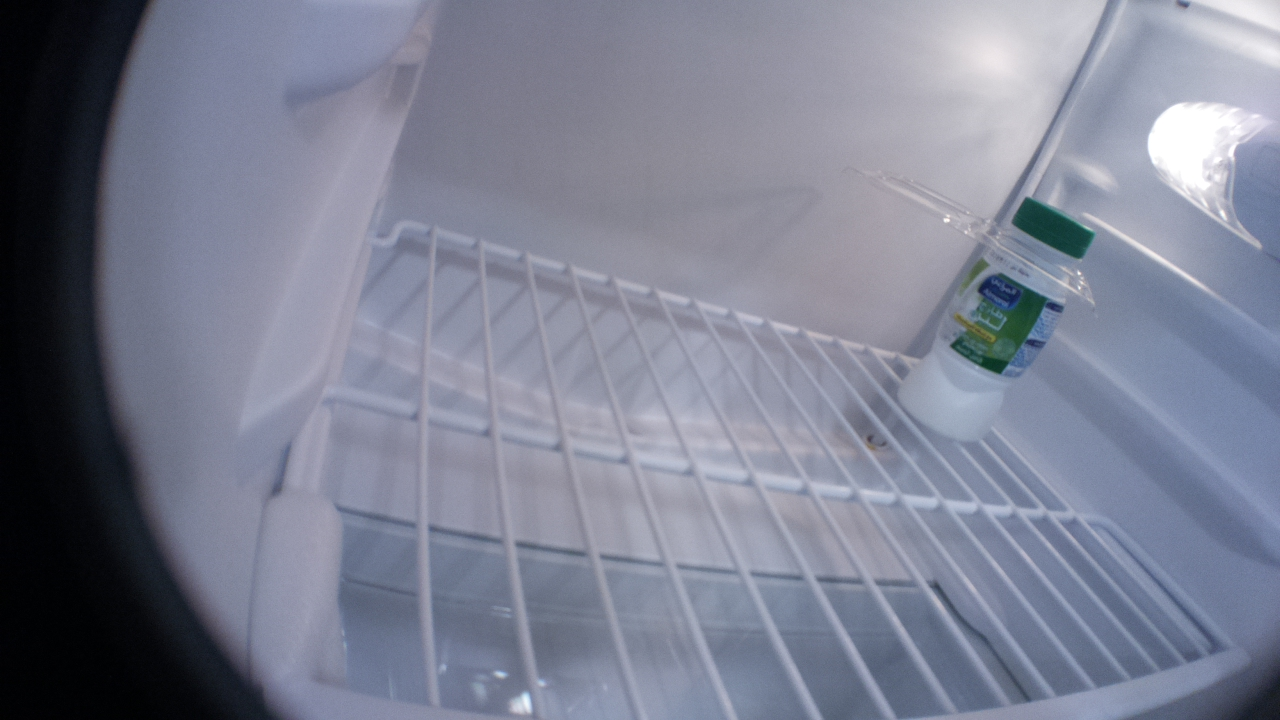laban: (880, 195, 1095, 443)
